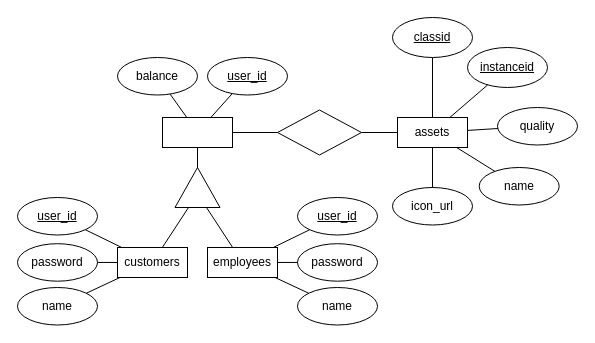
This 595x343 diagram has some shape labels left out. Each missing label, with the box of its shape:
accounts: (162, 116, 232, 148)
Inventory: (276, 109, 362, 155)
ISA: (174, 166, 220, 208)
